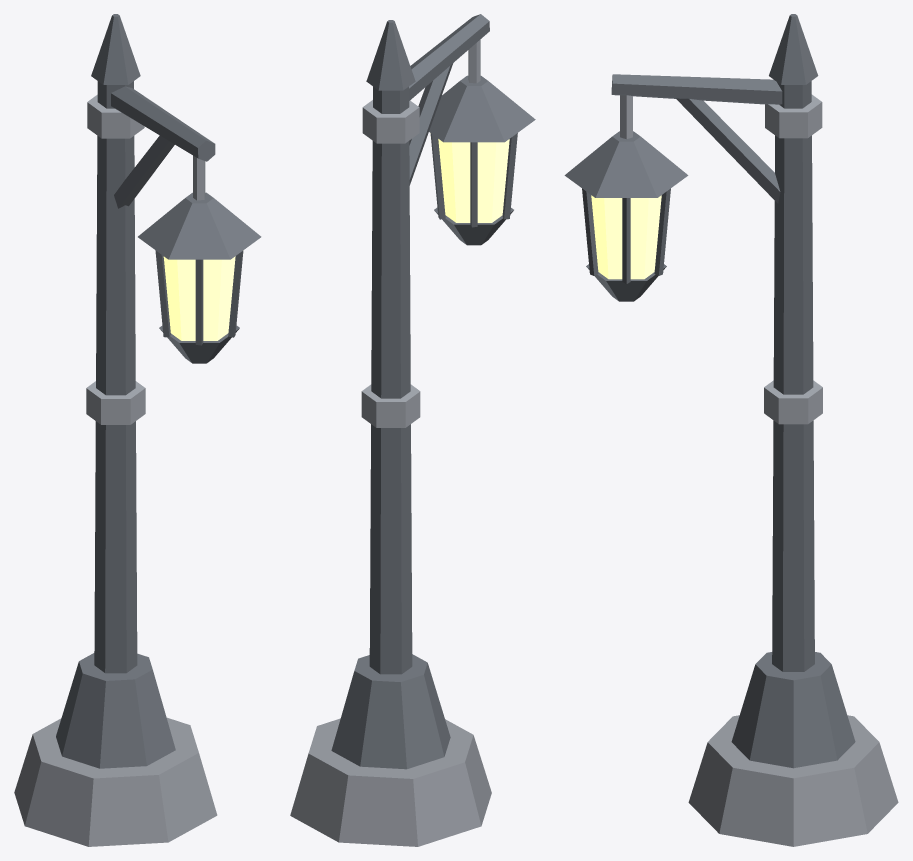
File: prop_lantern.glb
3 views of the same model, side by side, from view 1: azimuth 30°, elevation 25°; view 2: azimuth 150°, elevation 25°; view 3: azimuth 270°, elevation 25° (orthographic).
Visible parts, largest first — view 1: Lantern; view 2: Lantern; view 3: Lantern.
Part boxes in pixels (left/top/right/bottom): Lantern: left=14, top=14, right=261, bottom=846; Lantern: left=290, top=14, right=535, bottom=846; Lantern: left=564, top=14, right=898, bottom=846.
Bounding box in the file's own units: 0.44 × 1.82 × 0.7.
